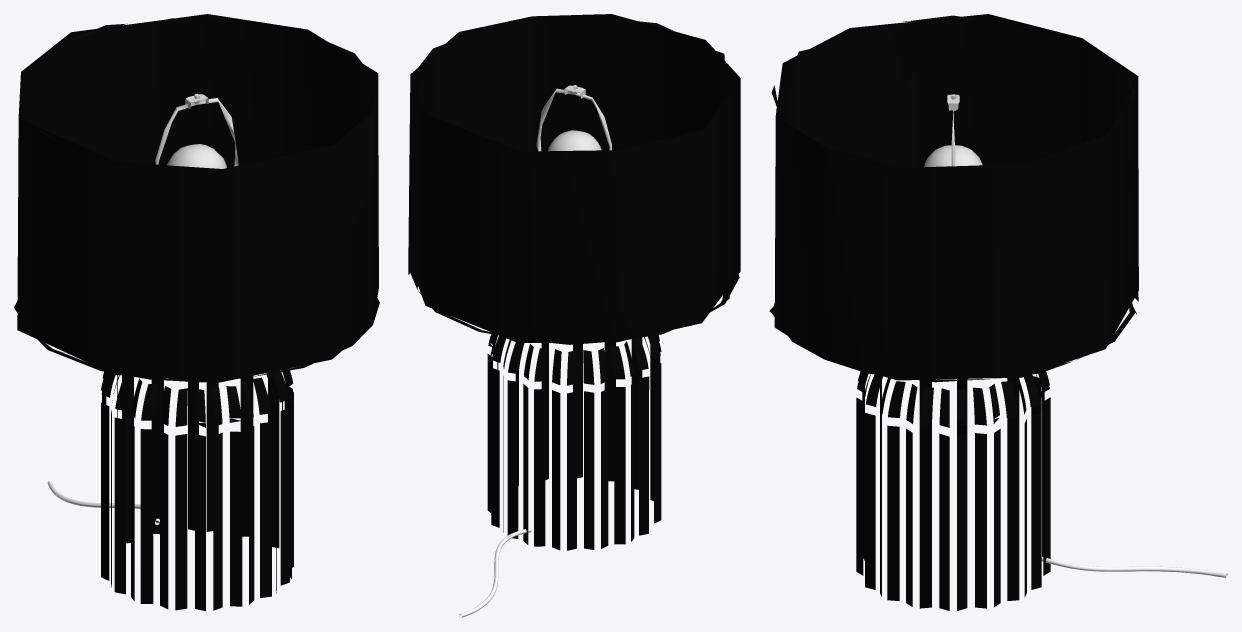
File: affd7398-7af6-44d5-9b0d-a827aeb1a23a.glb
3 renders of one model, left to right at view 1: azimuth 30°, elevation 25°; view 2: azimuth 150°, elevation 25°; view 3: azimuth 270°, elevation 25°, orthographic. The views are drawn at different scales.
Visible parts, largest first — view 1: Shade, Lamp Body, Light Bulb 001, Metal; view 2: Shade, Lamp Body, Light Bulb 001, Metal, Wire; view 3: Shade, Lamp Body, Wire, Light Bulb 001.
Boxes of the visible parts, x1,y1,x2,y2 form: Shade: (14,14,379,382); Lamp Body: (100,368,293,611); Light Bulb 001: (167,144,226,168); Metal: (155,93,238,166); Shade: (408,14,740,344); Lamp Body: (487,334,661,550); Light Bulb 001: (548,130,601,151); Metal: (536,85,611,151); Wire: (459,528,531,617); Shade: (769,14,1138,382); Lamp Body: (856,371,1050,610); Wire: (1041,556,1227,577); Light Bulb 001: (924,145,982,167).
Bounding box in the file's own units: 0.4154 × 0.6087 × 0.5153.
7 materials, 2 textured.
